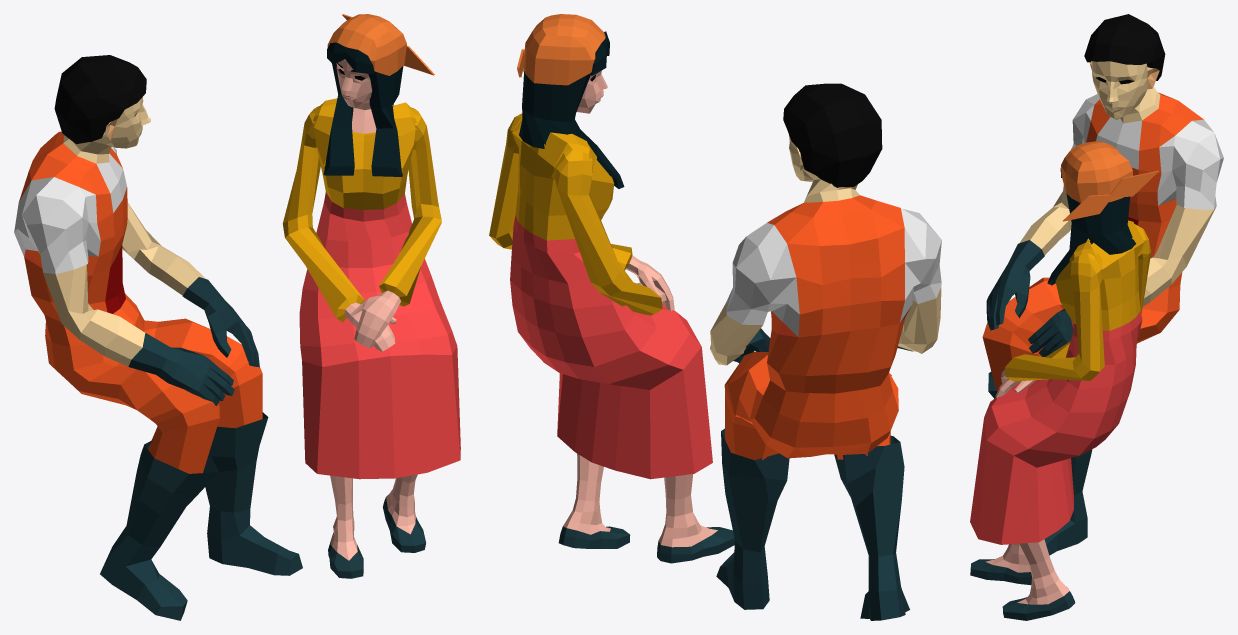
File: Male_Female_pose.FBX
3 renders of one model, left to right at view 1: azimuth 30°, elevation 25°; view 2: azimuth 150°, elevation 25°; view 3: azimuth 270°, elevation 25°, orthographic. The views are drawn at different scales.
Visible parts, largest first — view 1: Male_Female_pose; view 2: Male_Female_pose; view 3: Male_Female_pose.
Part boxes in pixels (x1,y1,x2,y2): Male_Female_pose: (14,14,460,620); Male_Female_pose: (489,14,941,620); Male_Female_pose: (970,14,1223,620).
Size of the model in its own units: 1.07 by 1.31 by 0.6176.
1 material, 1 textured.
